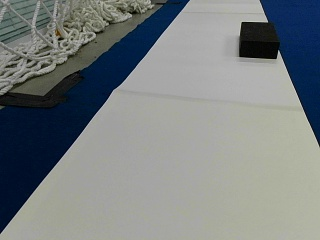block: (239, 21, 278, 58)
